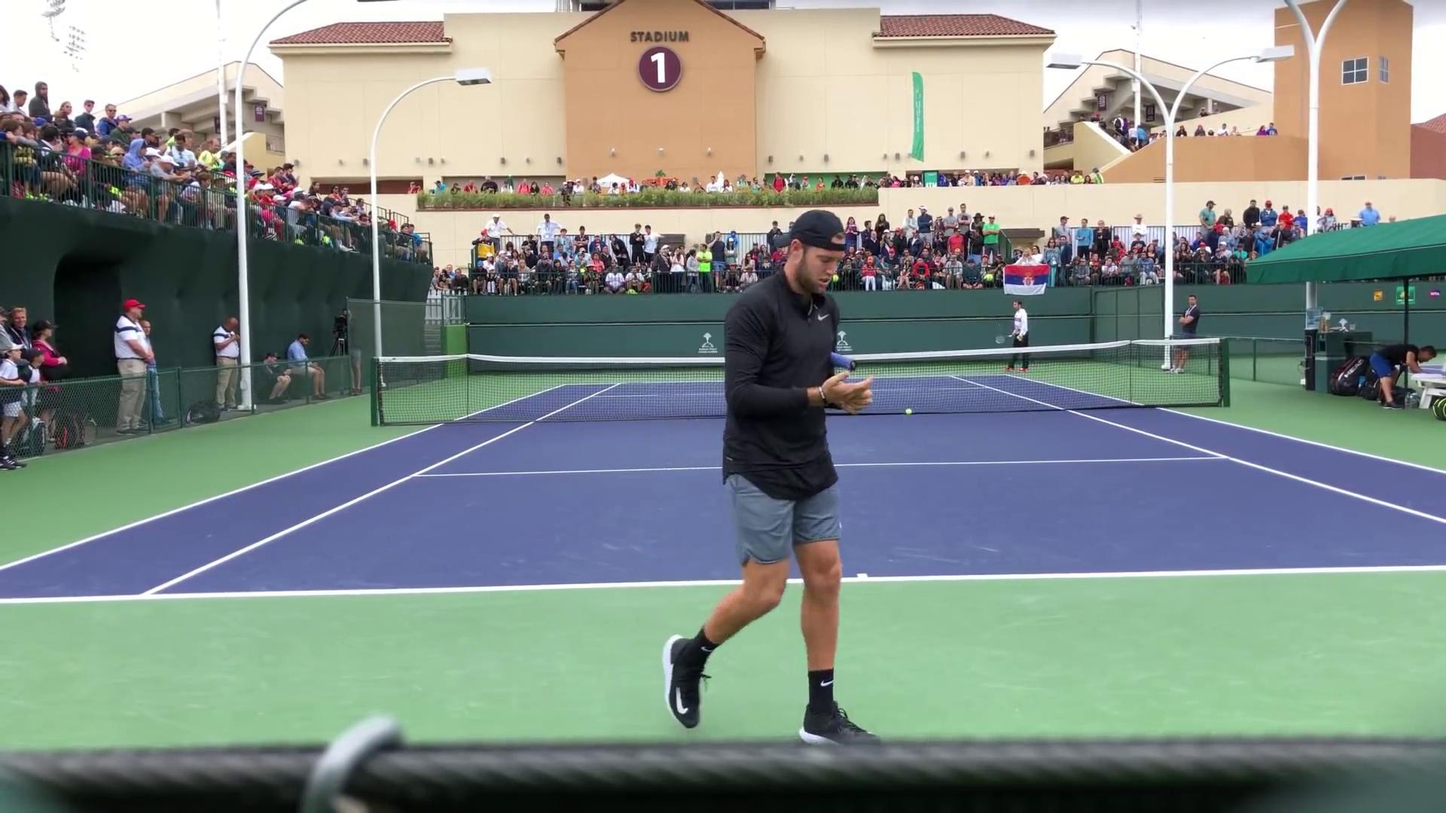ball: (903, 408, 914, 415)
